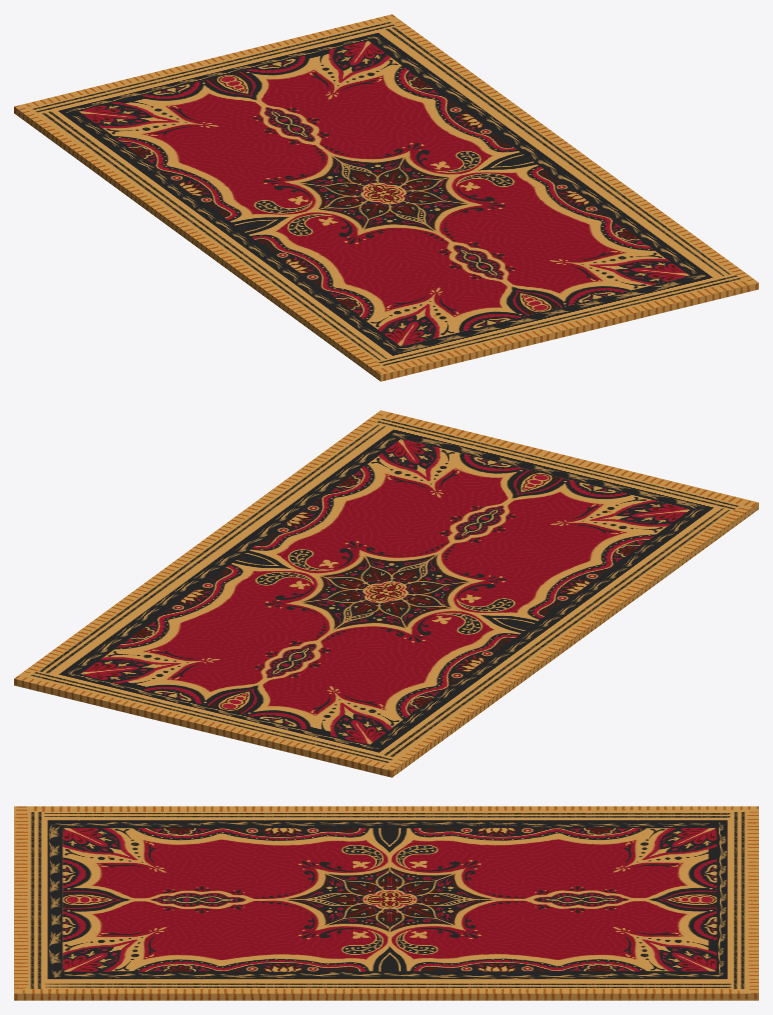
Rendered from Carpet.glb.
The picture shows the model from 3 angles, top to bottom: view 1: azimuth 30°, elevation 25°; view 2: azimuth 150°, elevation 25°; view 3: azimuth 270°, elevation 25°; orthographic projection.
Parts seen in each view (by area): view 1: Insane and difficult geometry; view 2: Insane and difficult geometry; view 3: Insane and difficult geometry.
Part boxes in pixels (x1,y1,x2,y2): Insane and difficult geometry: [14, 14, 758, 381]; Insane and difficult geometry: [14, 410, 758, 777]; Insane and difficult geometry: [14, 806, 758, 1000].
Size of the model in its own units: 2.15 by 0.0369 by 3.6.
1 material, 1 textured.
